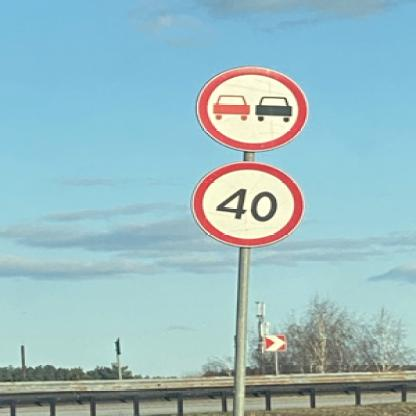Speed Limit 40: (188, 162, 306, 249)
